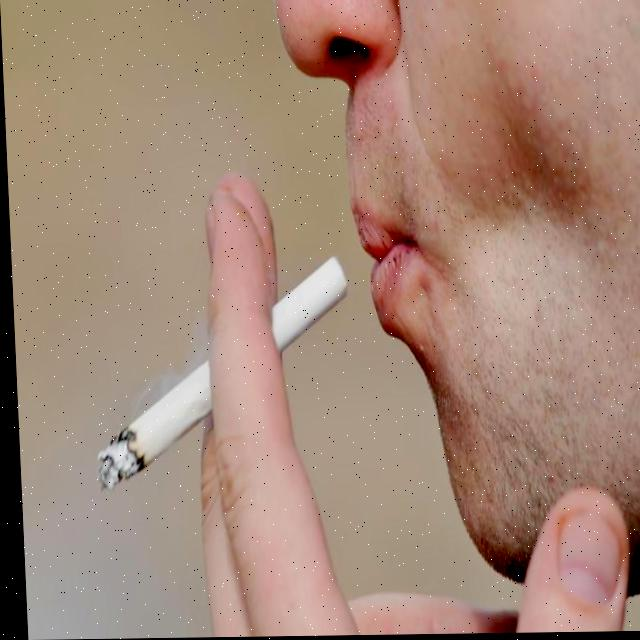cigarette: (89, 258, 354, 491)
